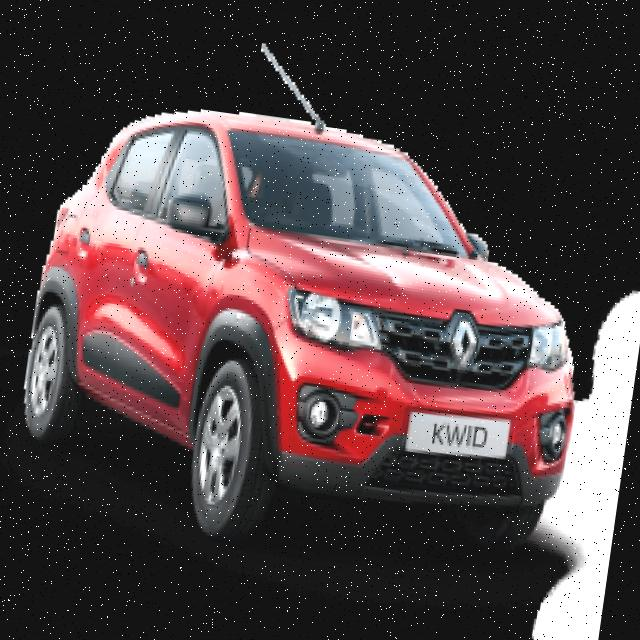Autre: (404, 417, 507, 457)
